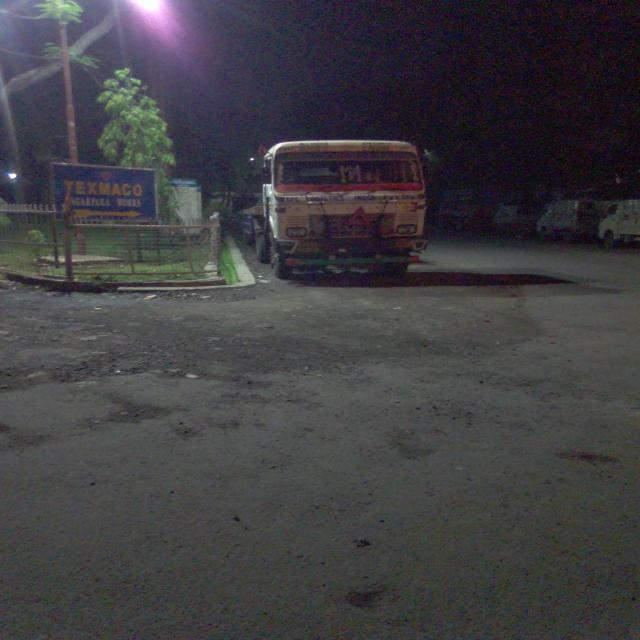Truck: (244, 138, 447, 288)
tempo: (533, 203, 591, 241), (599, 199, 640, 252)
